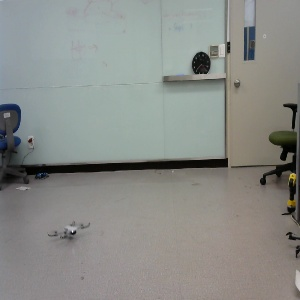Drone: (47, 217, 92, 242)
